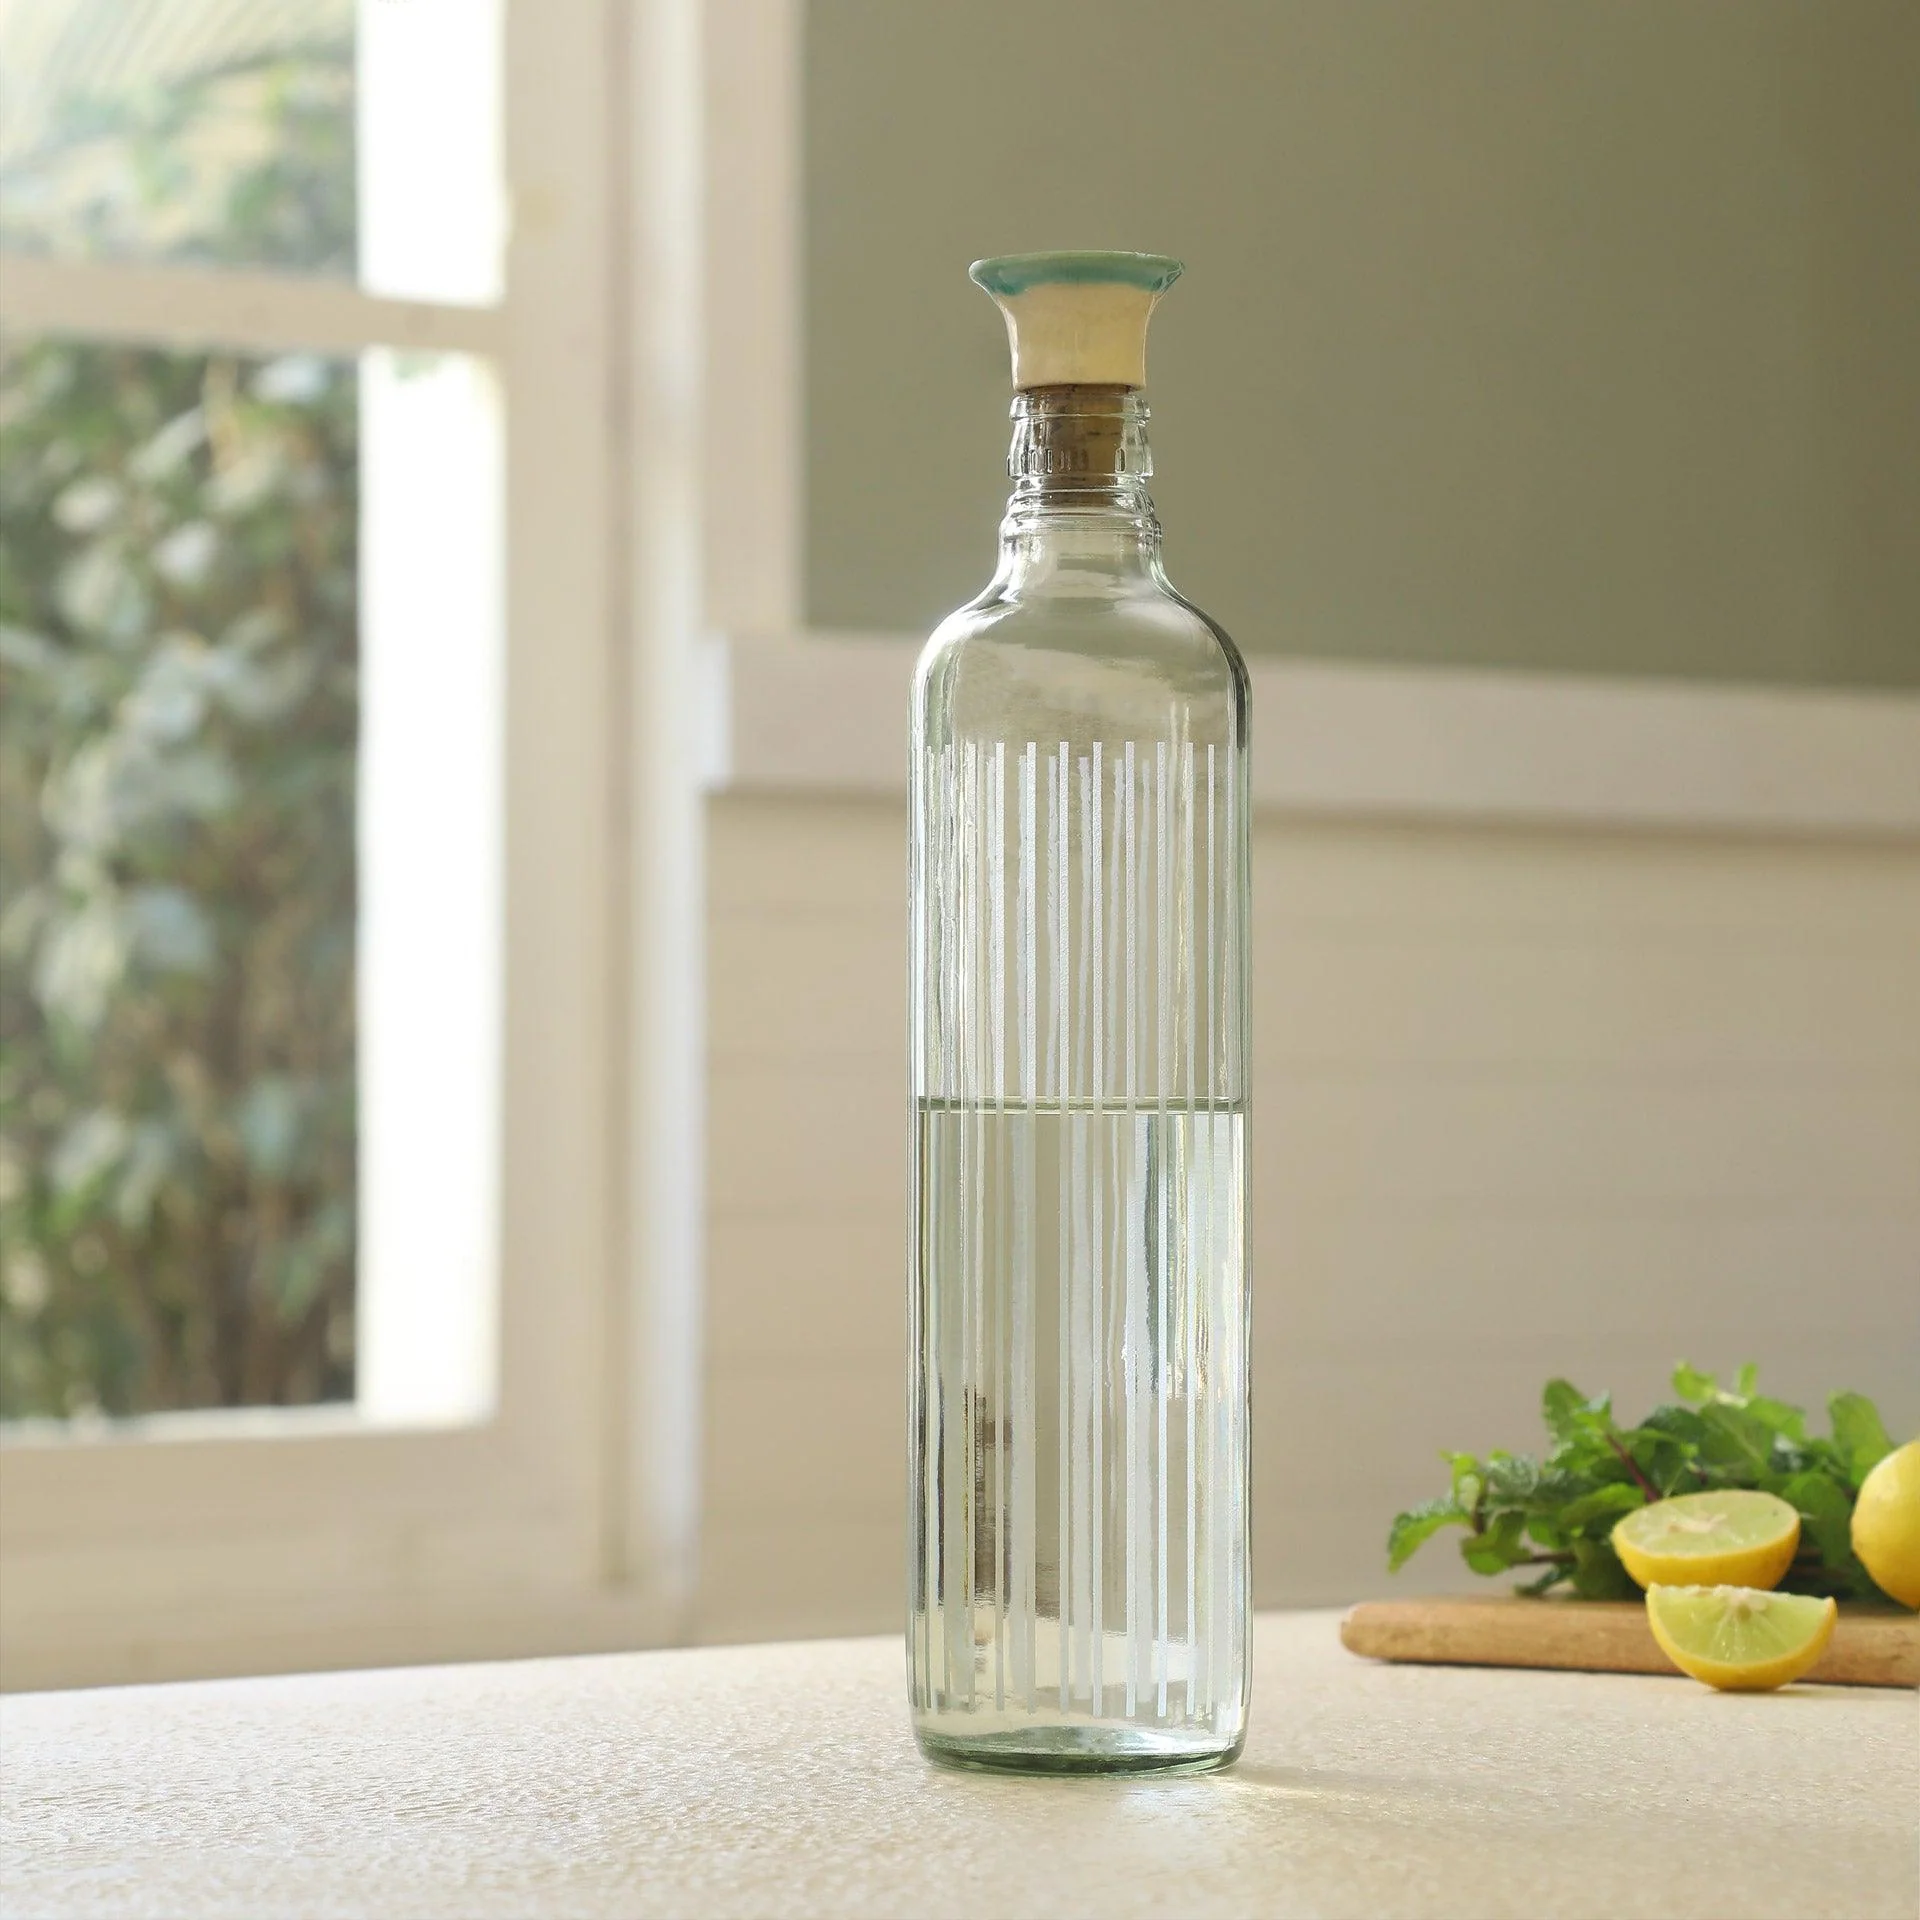glass_bottle: (867, 216, 1303, 1800)
